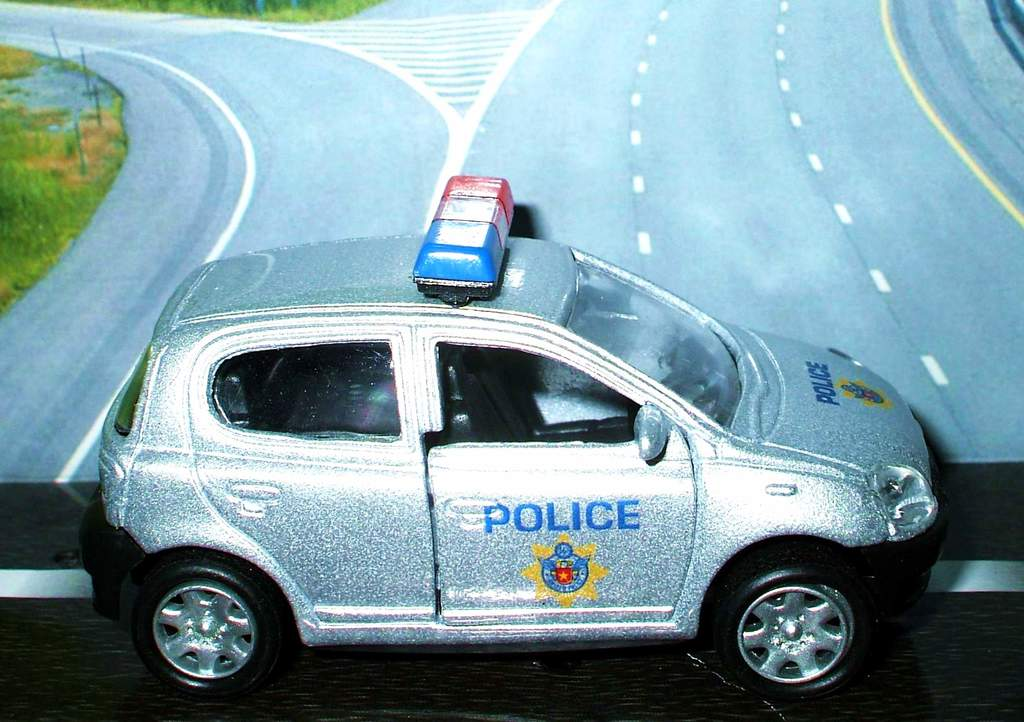Car: (82, 176, 945, 705)
